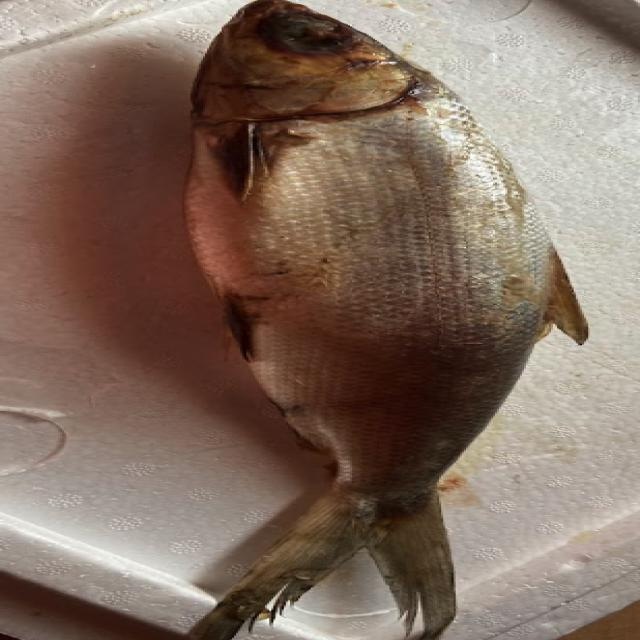Bangus-NF -0-5-: (109, 0, 591, 640)
Eye -1-: (253, 12, 378, 56)
Skin -1-: (229, 130, 521, 494)
